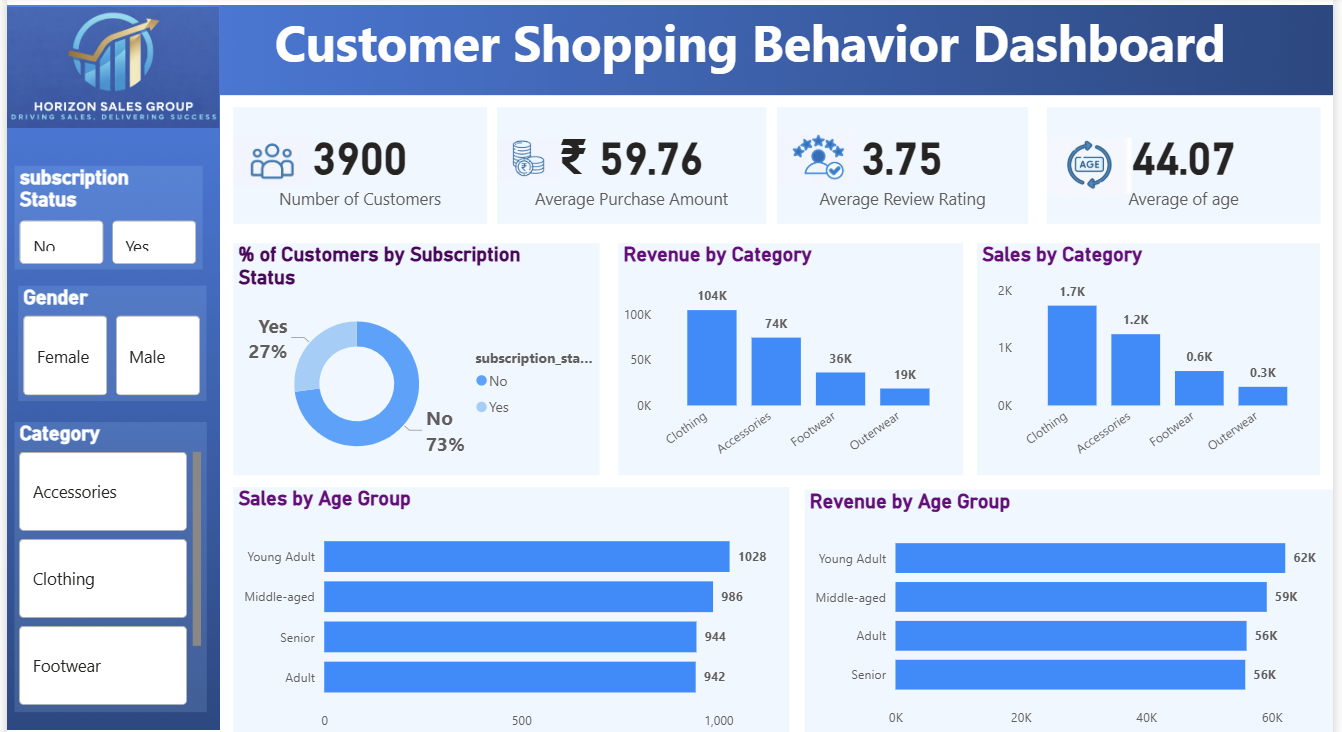

This screenshot's page, from the dashboard's own definition file:
{"tool":"powerbi","page":{"name":"Page 1","canvas":[1280,720],"ordinal":0},"visuals":[{"type":"textbox","box":[7.2,0,1272.8,88.1],"z":0},{"type":"advancedSlicerVisual","title":"subscription Status","fields":{"Values":["customer_behavior customer.subscription_status"]},"box":[7.1,162.9,181.4,100],"z":1000},{"type":"advancedSlicerVisual","title":"Gender","fields":{"Values":["customer_behavior customer.gender"]},"box":[11.4,278.6,181.4,111.4],"z":2000},{"type":"advancedSlicerVisual","title":"Category","fields":{"Values":["customer_behavior customer.category"]},"box":[7.1,410,185.7,280],"z":3000},{"type":"clusteredBarChart","title":"Sales by Age Group","fields":{"Category":["customer_behavior customer.age_group"],"Y":["CountNonNull(customer_behavior customer.customer_id)"]},"box":[218.6,472.9,537.1,244.3],"z":4000},{"type":"donutChart","title":"% of Customers by Subscription Status","fields":{"Category":["customer_behavior customer.subscription_status"],"Y":["CountNonNull(customer_behavior customer.customer_id)"]},"box":[218.8,237.5,353.8,223.8],"z":5000},{"type":"clusteredColumnChart","title":"Revenue by Category","fields":{"Y":["Sum(customer_behavior customer.purchase_amount)"],"Category":["customer_behavior customer.category"]},"box":[590,237.5,332.5,223.8],"z":6000},{"type":"clusteredColumnChart","title":"Sales by Category","fields":{"Y":["CountNonNull(customer_behavior customer.customer_id)"],"Category":["customer_behavior customer.category"]},"box":[936.2,237.5,331.2,223.8],"z":7000},{"type":"clusteredBarChart","title":"Revenue by Age Group","fields":{"Category":["customer_behavior customer.age_group"],"Y":["Sum(customer_behavior customer.purchase_amount)"]},"box":[770,475.7,510,238.6],"z":8000},{"type":"card","fields":{"Values":["customer_behavior customer.Number of Customers"]},"box":[218.8,106.2,245,112.5],"z":9000},{"type":"card","fields":{"Values":["customer_behavior customer.Average Purchase Amount"]},"box":[472.5,106.2,260,112.5],"z":10000},{"type":"card","fields":{"Values":["customer_behavior customer.Average Review Rating"]},"box":[743.8,106.2,242.5,112.5],"z":11000},{"type":"card","fields":{"Values":["Avg(customer_behavior customer.age)"]},"box":[1003.8,106.2,263.8,112.5],"z":12000},{"type":"image","box":[472.5,100,60,112.5],"z":13000},{"type":"image","box":[743.8,72.5,80,165],"z":14000},{"type":"image","box":[218.8,97.5,75,121.2],"z":15000},{"type":"image","box":[1003.8,103.8,81.2,118.8],"z":16000},{"type":"image","box":[0,0,205.1,136.3],"z":17001}]}

Visuals, with their boxes on the page's 1280x720 design canvas (x1, y1, x2, y2). These are canvas units, not pixel positions in the 1342x732 screenshot, which may show the page scaled, cropped or inside an application window:
textbox: bbox=(7, 0, 1280, 88)
"subscription Status" advancedSlicerVisual: bbox=(7, 163, 188, 263)
"Gender" advancedSlicerVisual: bbox=(11, 279, 193, 390)
"Category" advancedSlicerVisual: bbox=(7, 410, 193, 690)
"Sales by Age Group" clusteredBarChart: bbox=(219, 473, 756, 717)
"% of Customers by Subscription Status" donutChart: bbox=(219, 238, 573, 461)
"Revenue by Category" clusteredColumnChart: bbox=(590, 238, 922, 461)
"Sales by Category" clusteredColumnChart: bbox=(936, 238, 1267, 461)
"Revenue by Age Group" clusteredBarChart: bbox=(770, 476, 1280, 714)
card - customer_behavior customer.Number of Customers: bbox=(219, 106, 464, 219)
card - customer_behavior customer.Average Purchase Amount: bbox=(472, 106, 732, 219)
card - customer_behavior customer.Average Review Rating: bbox=(744, 106, 986, 219)
card - Avg(customer_behavior customer.age): bbox=(1004, 106, 1268, 219)
image: bbox=(472, 100, 532, 212)
image: bbox=(744, 72, 824, 238)
image: bbox=(219, 98, 294, 219)
image: bbox=(1004, 104, 1085, 223)
image: bbox=(0, 0, 205, 136)
